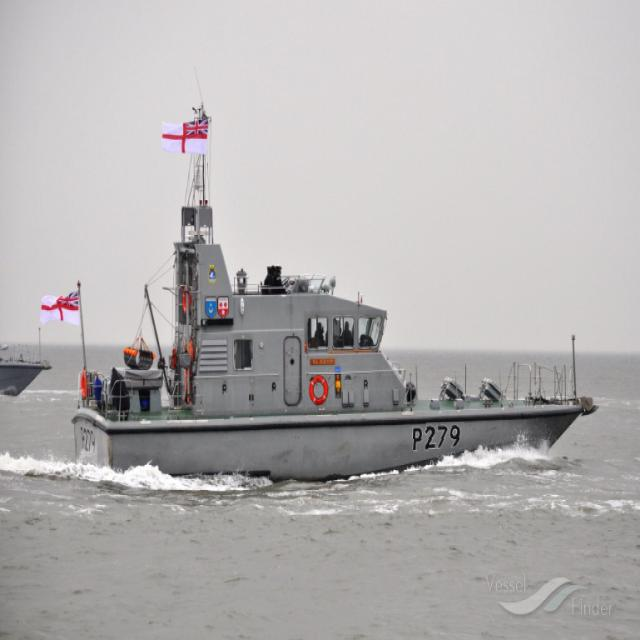OCR: (403, 422, 464, 454), (75, 424, 97, 455)
